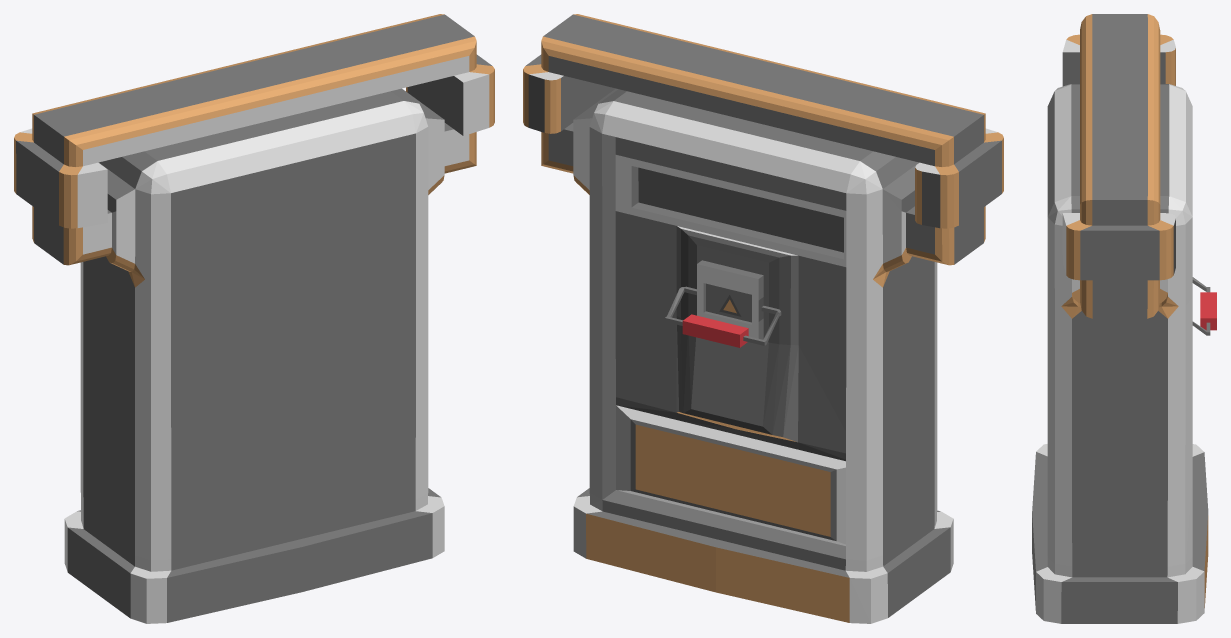
The model's file is MS_Switch_OFF.fbx.
3 renders of one model, left to right at view 1: azimuth 30°, elevation 25°; view 2: azimuth 150°, elevation 25°; view 3: azimuth 270°, elevation 25°, orthographic. The views are drawn at different scales.
Parts seen in each view (by area): view 1: MS_Switch; view 2: MS_Switch; view 3: MS_Switch.
Boxes of the visible parts, box(x1,y1,x2,y2) form: MS_Switch: box(14, 14, 494, 623); MS_Switch: box(523, 14, 1003, 623); MS_Switch: box(1032, 14, 1216, 623).
Size of the model in its own units: 2.24 by 2.38 by 0.8914.
